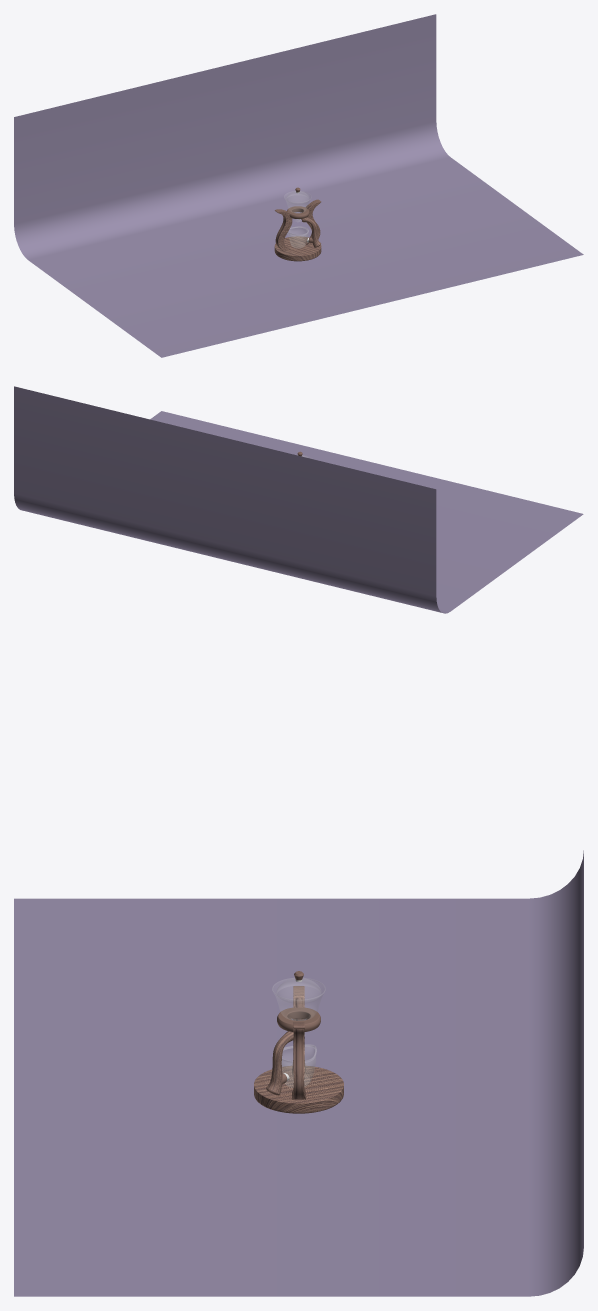
File: beizi.glb
The picture shows the model from 3 angles, top to bottom: view 1: azimuth 30°, elevation 25°; view 2: azimuth 150°, elevation 25°; view 3: azimuth 270°, elevation 25°; orthographic projection. The views are drawn at different scales.
Parts seen in each view (by area): view 1: 背景, 底座, 平面; view 2: 背景; view 3: 背景, 底座, 平面, beizidizuo, 圆环.
Part boxes in pixels (x1,y1,x2,y2): 背景: (14,14,583,357); 底座: (274,236,321,261); 平面: (275,199,321,251); 背景: (14,386,583,613); 背景: (14,850,583,1296); 底座: (254,1065,343,1113); 平面: (292,986,305,1099); beizidizuo: (272,978,325,1020); 圆环: (277,1007,320,1031).
Size of the model in its own units: 79.68 by 23.92 by 48.21.
Materials: 5 (1 with a texture image).
